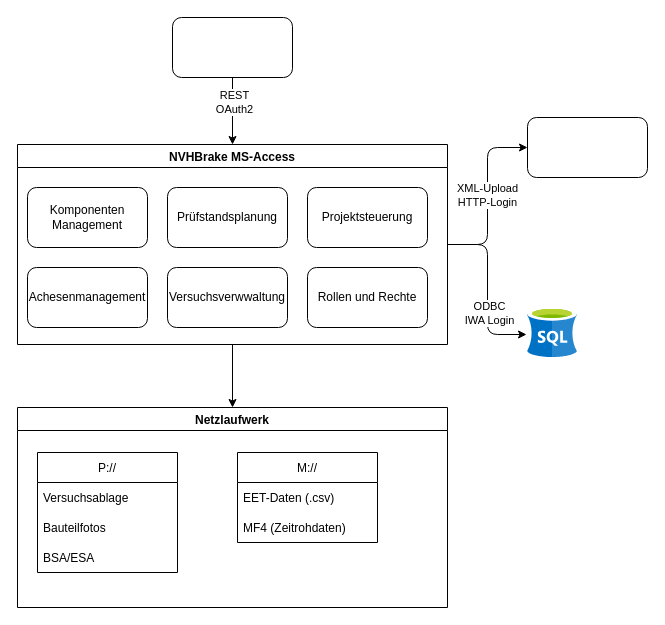
This 665x625 diagram has some shape labels left out. The shapes that lost their labels are listed below. From the top down, each one's centre as x and y in pixels, then its label:
At pixel 232 47: "ALF Auftragsverwaltung".
At pixel 587 147: "CAE-Bench".
At pixel 552 332: "MS-SQL-Server".
